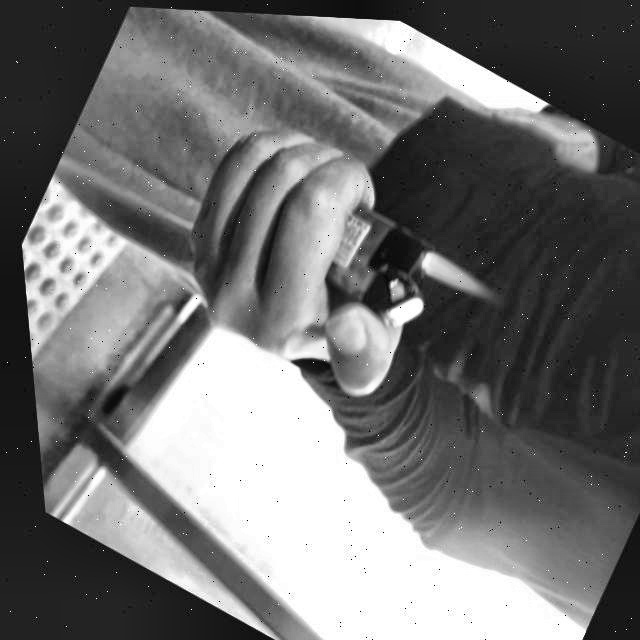Fire: (410, 242, 496, 307)
